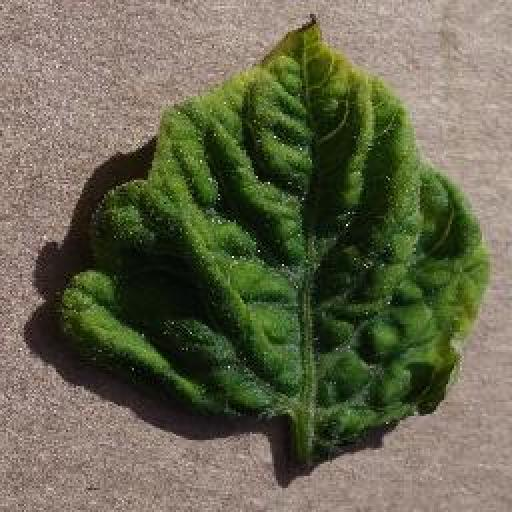disease_tomato: (58, 16, 490, 456)
